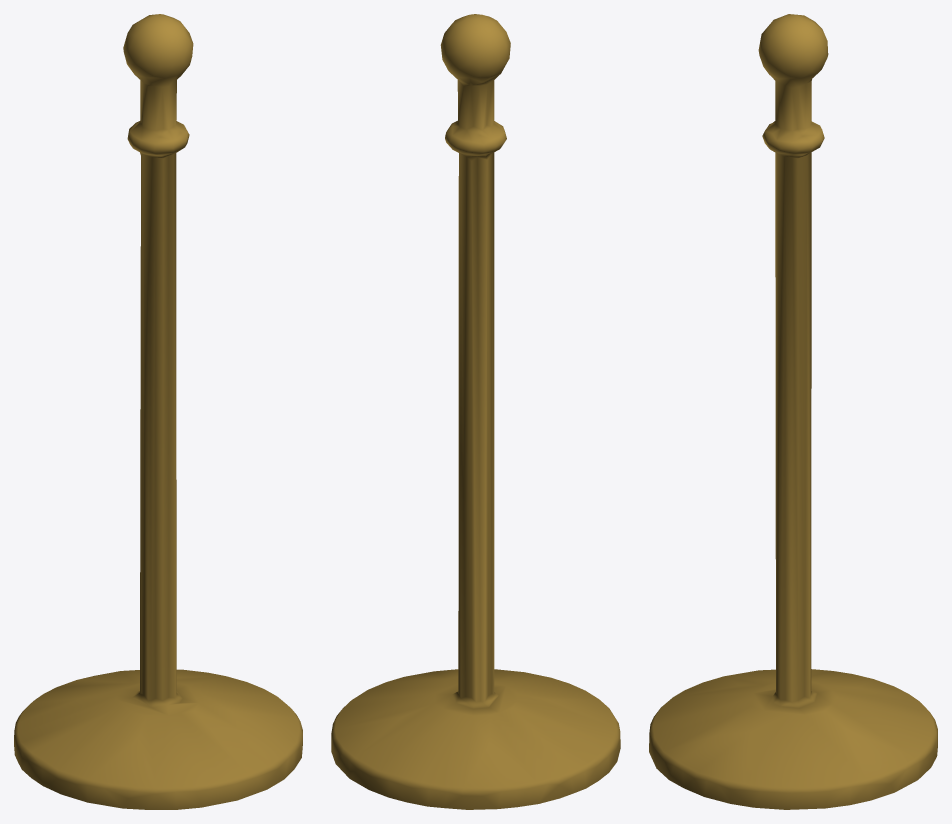
File: lumiere-stanchion.glb
3 renders of one model, left to right at view 1: azimuth 30°, elevation 25°; view 2: azimuth 150°, elevation 25°; view 3: azimuth 270°, elevation 25°, orthographic.
Visible parts, largest first — view 1: lumiere-stanchion_LOD0; view 2: lumiere-stanchion_LOD0; view 3: lumiere-stanchion_LOD0.
Boxes of the visible parts, <box> form: lumiere-stanchion_LOD0: <box>14,14,302,809</box>; lumiere-stanchion_LOD0: <box>331,14,620,809</box>; lumiere-stanchion_LOD0: <box>649,14,937,809</box>.
Size of what is drawn, in the model's own units: 0.3592 by 1 by 0.3592.
